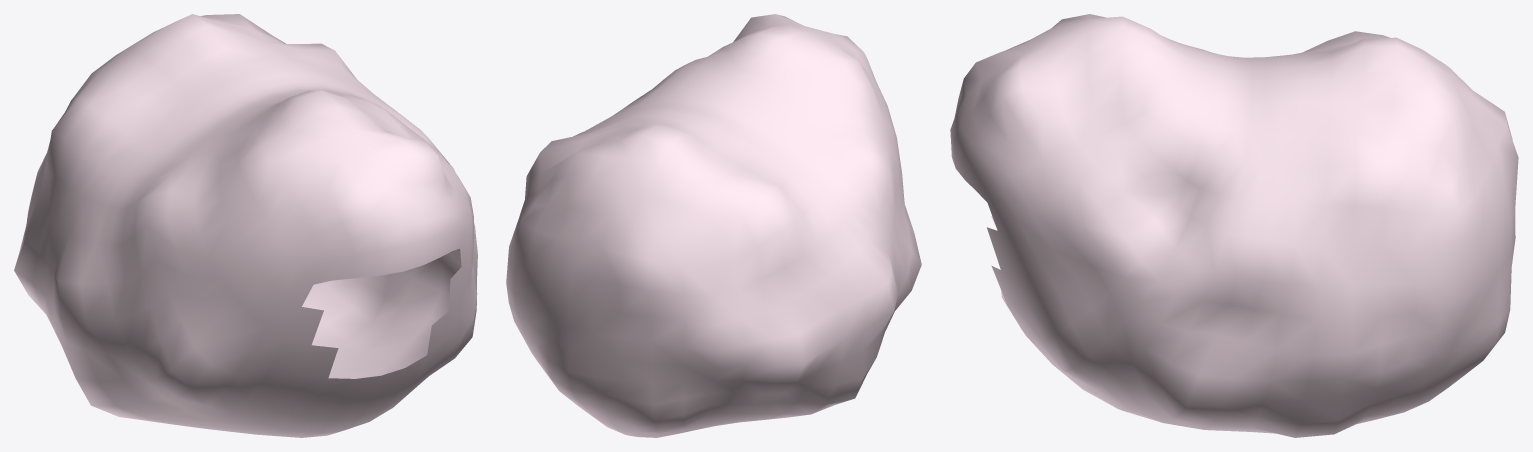
3 views of the same model, side by side, from view 1: azimuth 30°, elevation 25°; view 2: azimuth 150°, elevation 25°; view 3: azimuth 270°, elevation 25° (orthographic). The views are drawn at different scales.
Parts seen in each view (by area): view 1: Wool.001; view 2: Wool.001; view 3: Wool.001.
Boxes of the visible parts, <box> form: Wool.001: <box>14,14,477,437</box>; Wool.001: <box>506,14,921,437</box>; Wool.001: <box>950,14,1518,437</box>.
Bounding box in the file's own units: 199 × 186 × 243.
